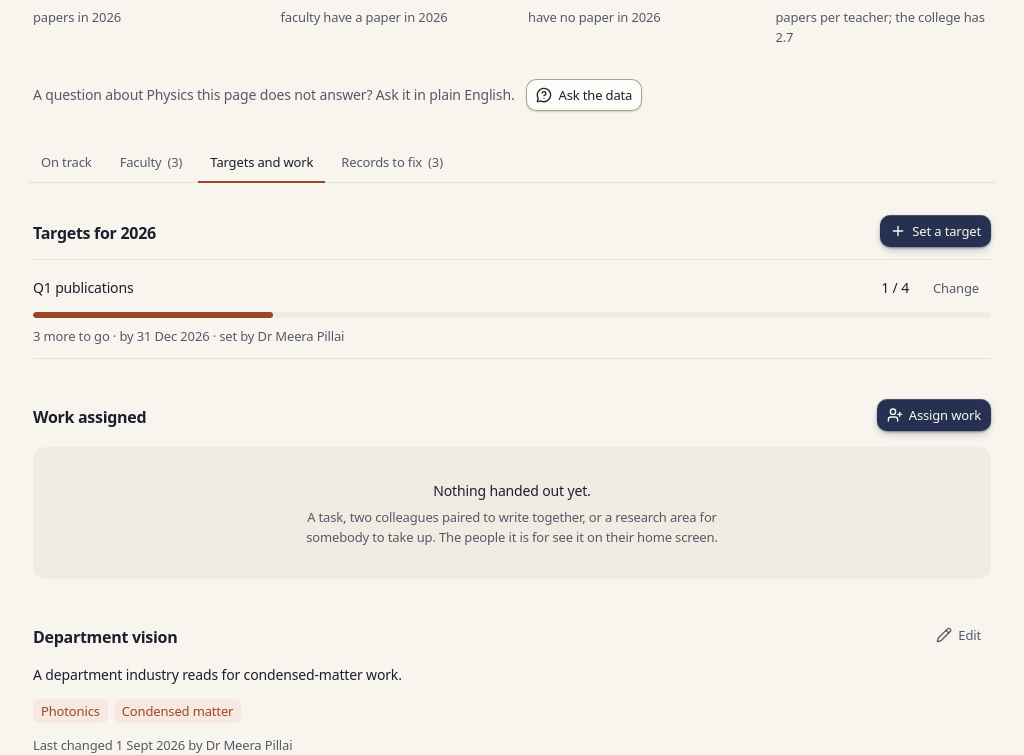
work assigned › asks for the second person only when pairing co-authors
(page scrolled)
Step 1. Click the button "Assign work" → (934, 415), box [877,399,991,431]
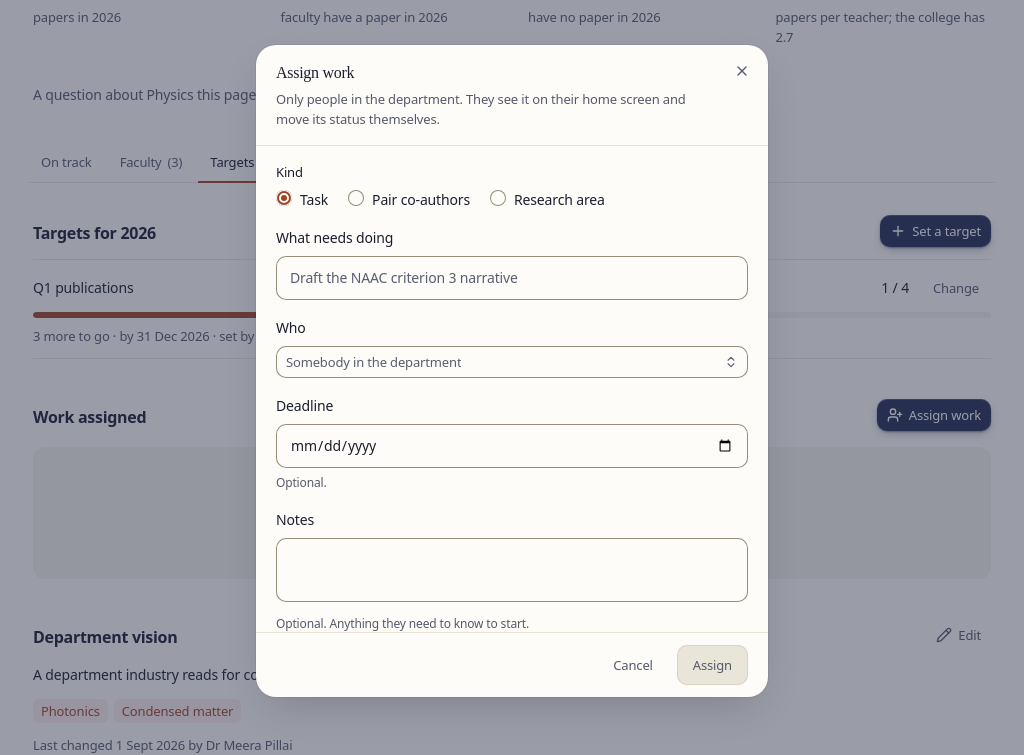
Step 2. Click the radio button labelled "Pair co-authors" → (356, 198), box [348,190,364,206]
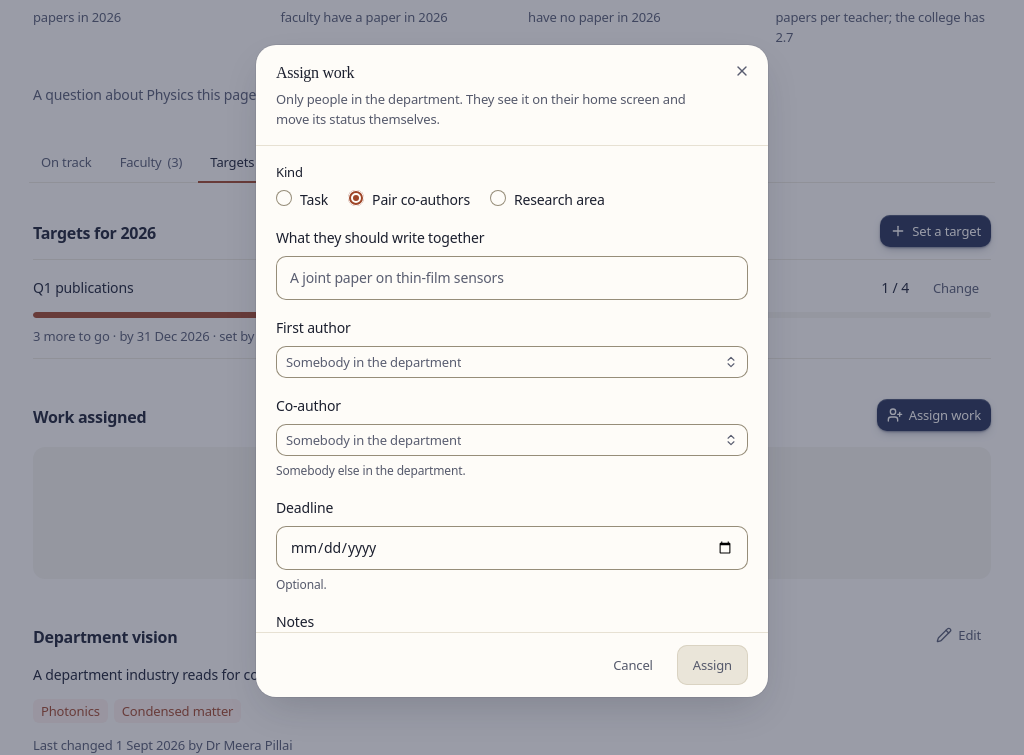
Result: the button named "Co-author" is shown at [276,424,748,456]
